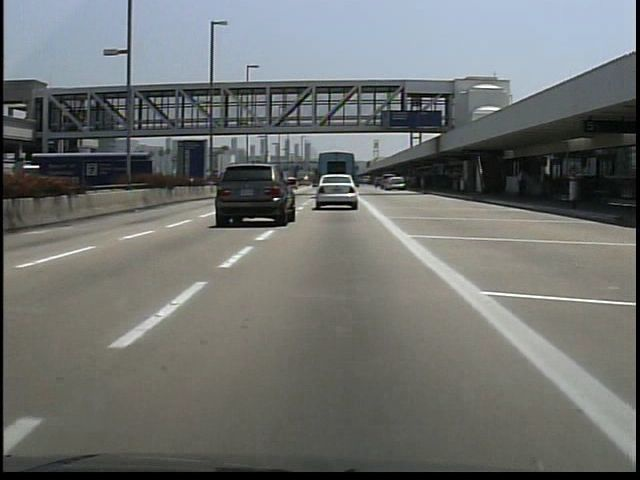person: (511, 169, 532, 206)
